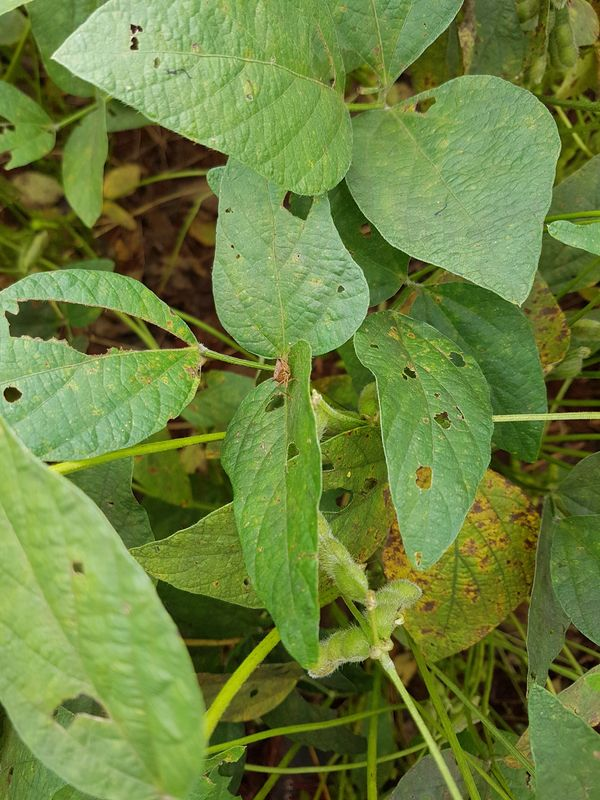Euschistus_heros_adulto: (252, 340, 314, 401)
